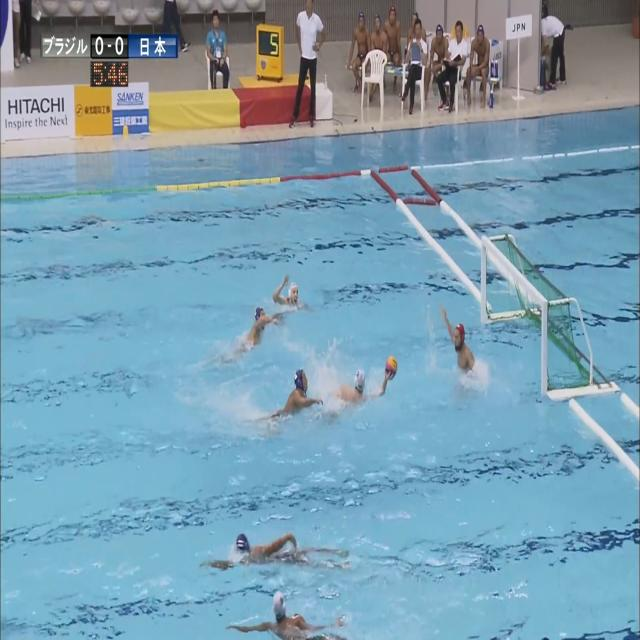ball: (385, 355, 398, 376)
